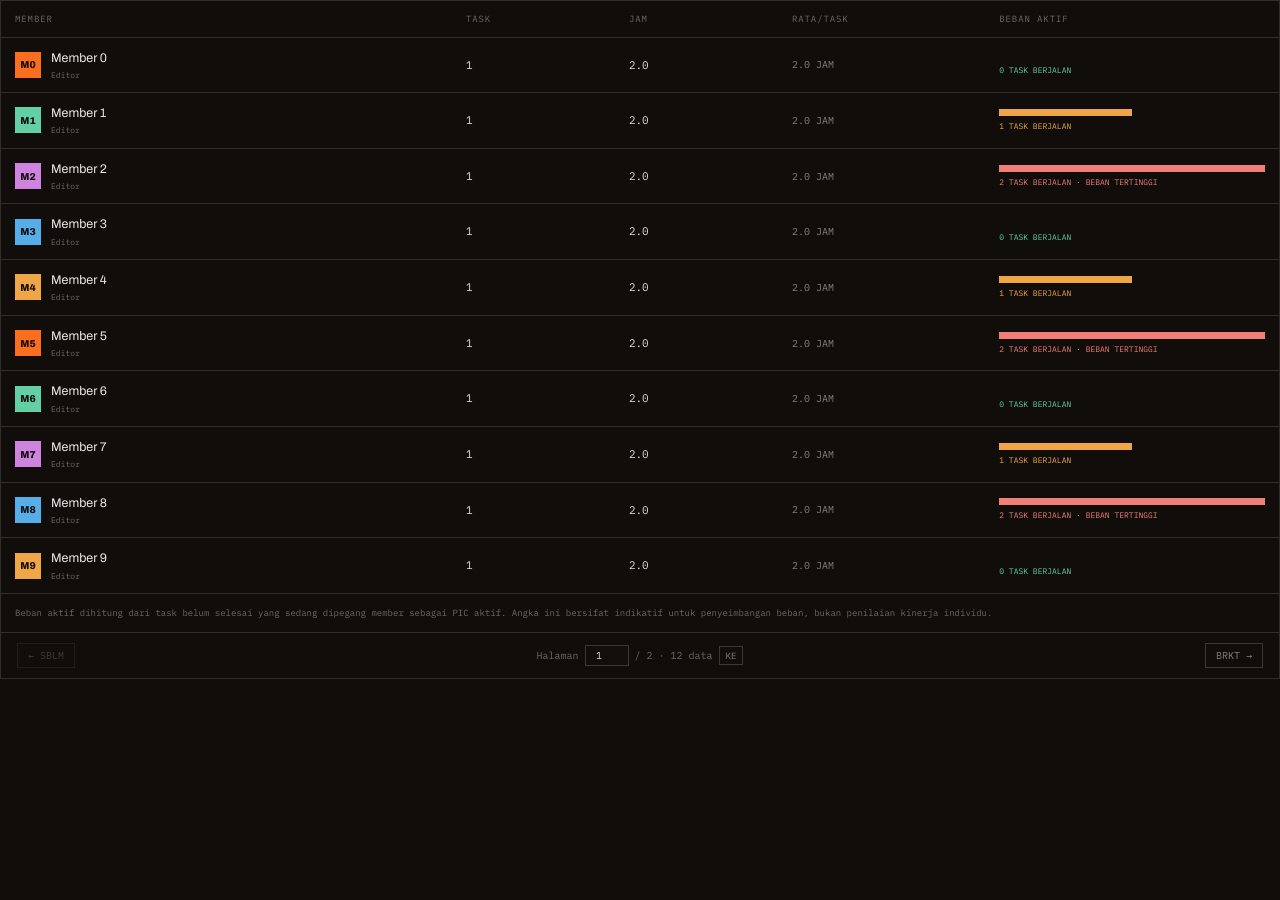
Scenario: TimesheetMembersView › memaginasi 10 baris per halaman dan menampilkan keterangan beban
Expected: the text "Member 0" is shown, top-left (51, 50), bottom-right (107, 66)
Expected: the text "Member 11" is not shown
Click the button "Brkt →" at x=1234, y=656, box top-left (1205, 643), bottom-right (1263, 668)
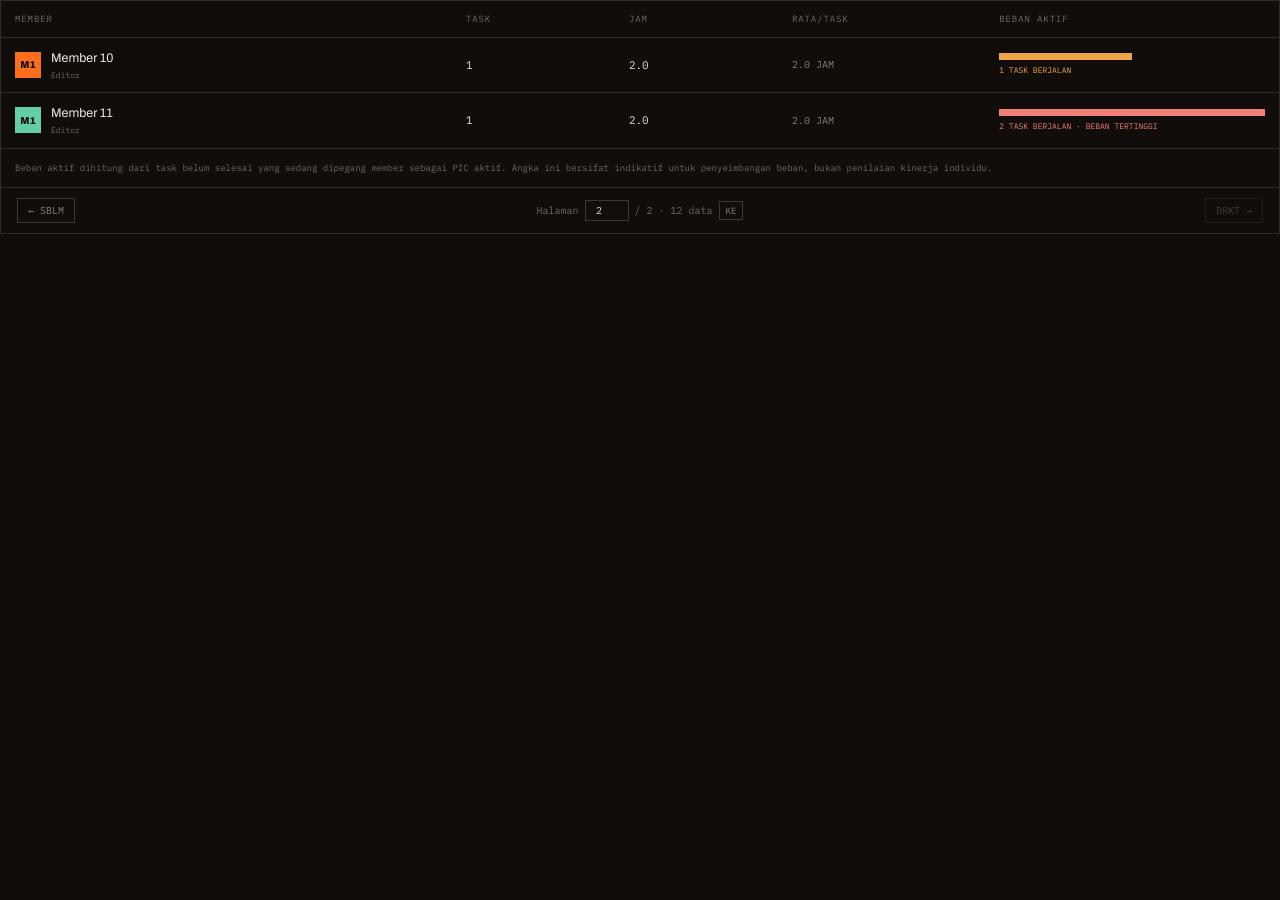
Expected: the text "bukan penilaian kinerja individu" is shown, top-left (15, 162), bottom-right (992, 173)
Now the text "Member 11" is shown, box top-left (51, 105), bottom-right (113, 121)
